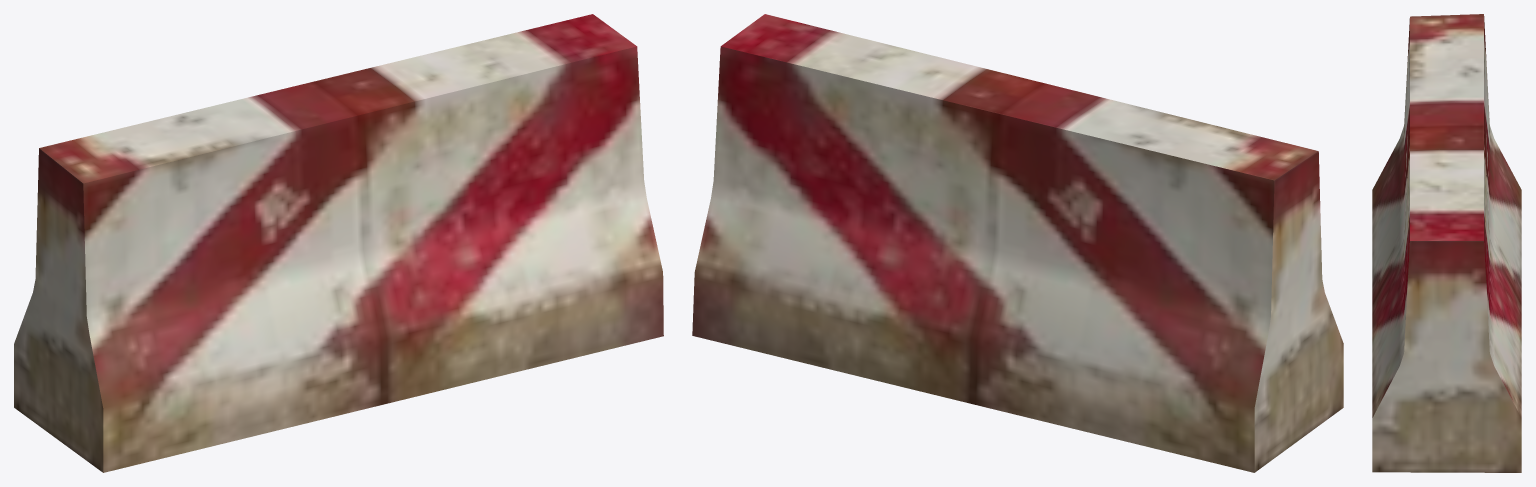
Rendered from mb-roadblock.lod1.glb.
The picture shows the model from 3 angles, left to right: view 1: azimuth 30°, elevation 25°; view 2: azimuth 150°, elevation 25°; view 3: azimuth 270°, elevation 25°; orthographic projection. The views are drawn at different scales.
Parts seen in each view (by area): view 1: roadblock1_roadblock1_0; view 2: roadblock1_roadblock1_0; view 3: roadblock1_roadblock1_0.
Boxes of the visible parts, x1,y1,x2,y2 form: roadblock1_roadblock1_0: (14, 14, 663, 472); roadblock1_roadblock1_0: (692, 14, 1343, 472); roadblock1_roadblock1_0: (1372, 14, 1521, 472).
Bounding box in the file's own units: 1.92 × 0.8999 × 0.528.
1 material, 1 textured.
